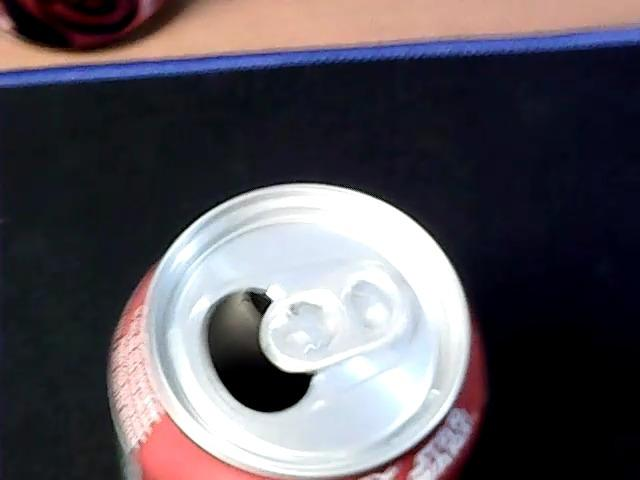coke: (122, 179, 481, 480), (1, 0, 197, 54)
